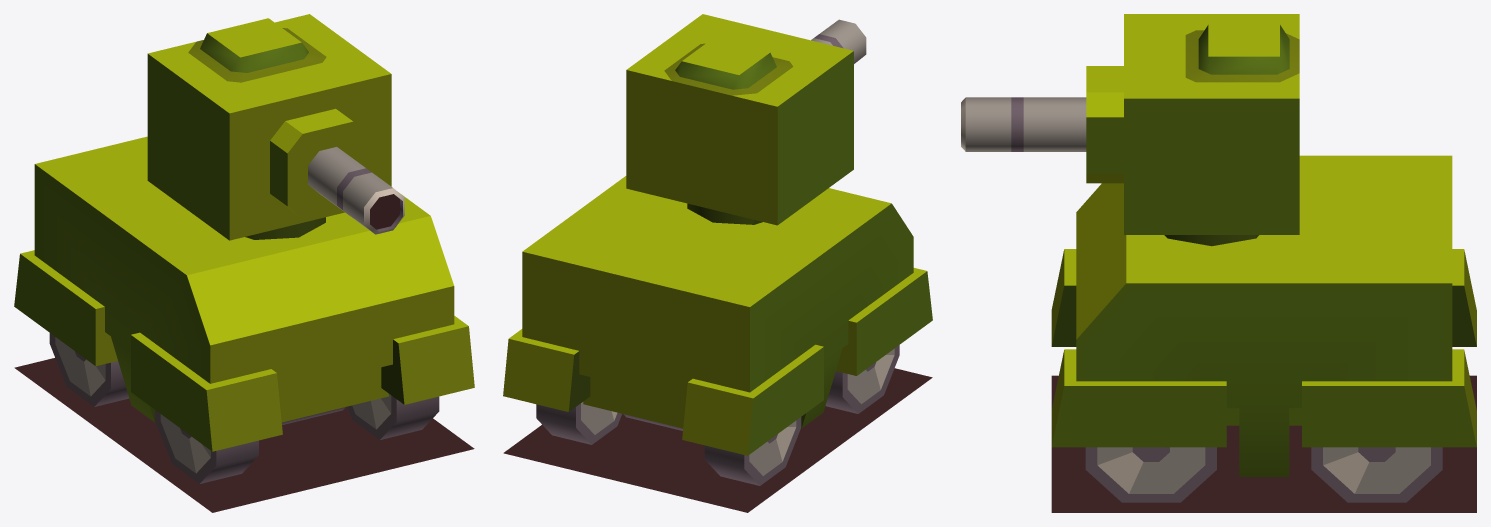
File: ReconMesh.AcidRain.glb
The picture shows the model from 3 angles, left to right: view 1: azimuth 30°, elevation 25°; view 2: azimuth 150°, elevation 25°; view 3: azimuth 270°, elevation 25°; orthographic projection. The views are drawn at different scales.
Parts seen in each view (by area): view 1: ReconMesh.AcidRain; view 2: ReconMesh.AcidRain; view 3: ReconMesh.AcidRain.
Part boxes in pixels (x1,y1,x2,y2): ReconMesh.AcidRain: (14,14,474,512); ReconMesh.AcidRain: (503,14,932,512); ReconMesh.AcidRain: (961,14,1476,512).
Size of the model in its own units: 1.29 by 1.79 by 2.06.
1 material, 1 textured.
